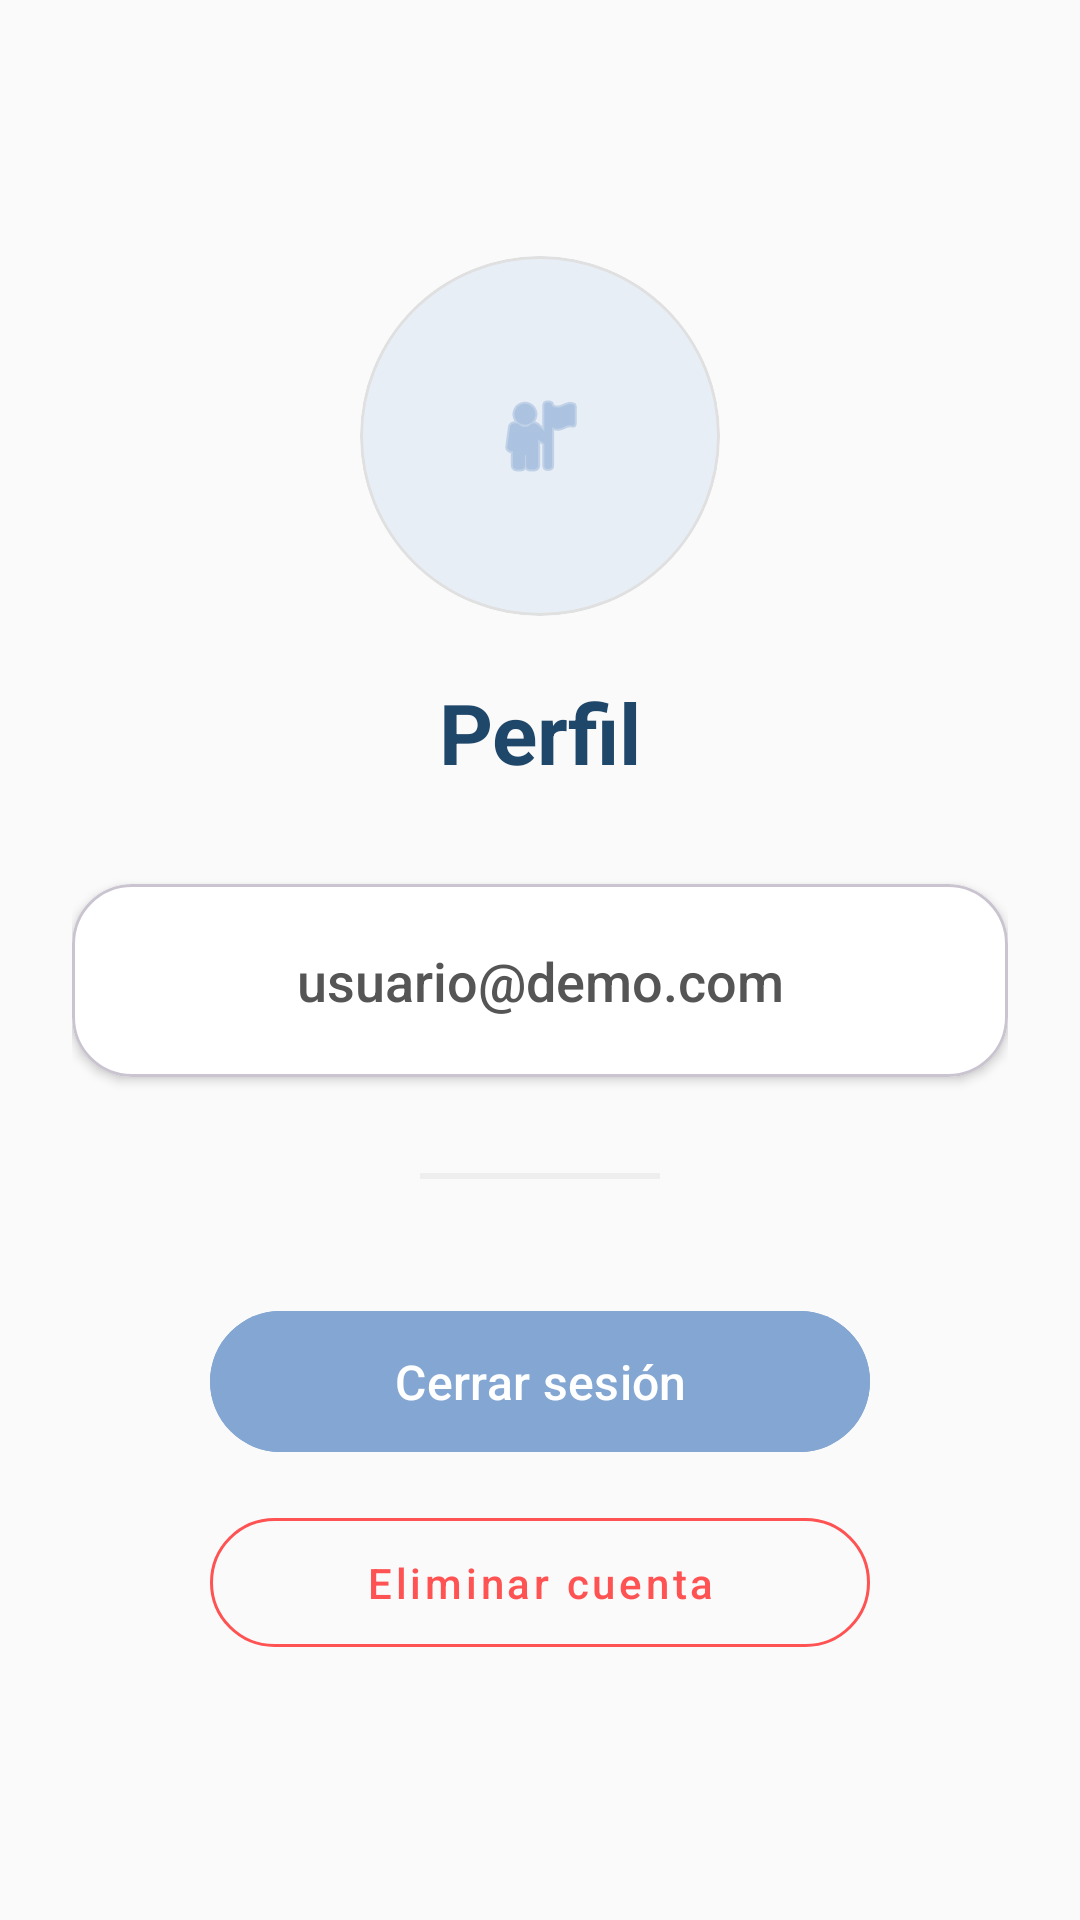

Named icons in this screenshot (1080px x 1920px) and their bounding boxes, BBox(x1, y1, x2, y2):
myplaces: BBox(360, 256, 720, 616)
